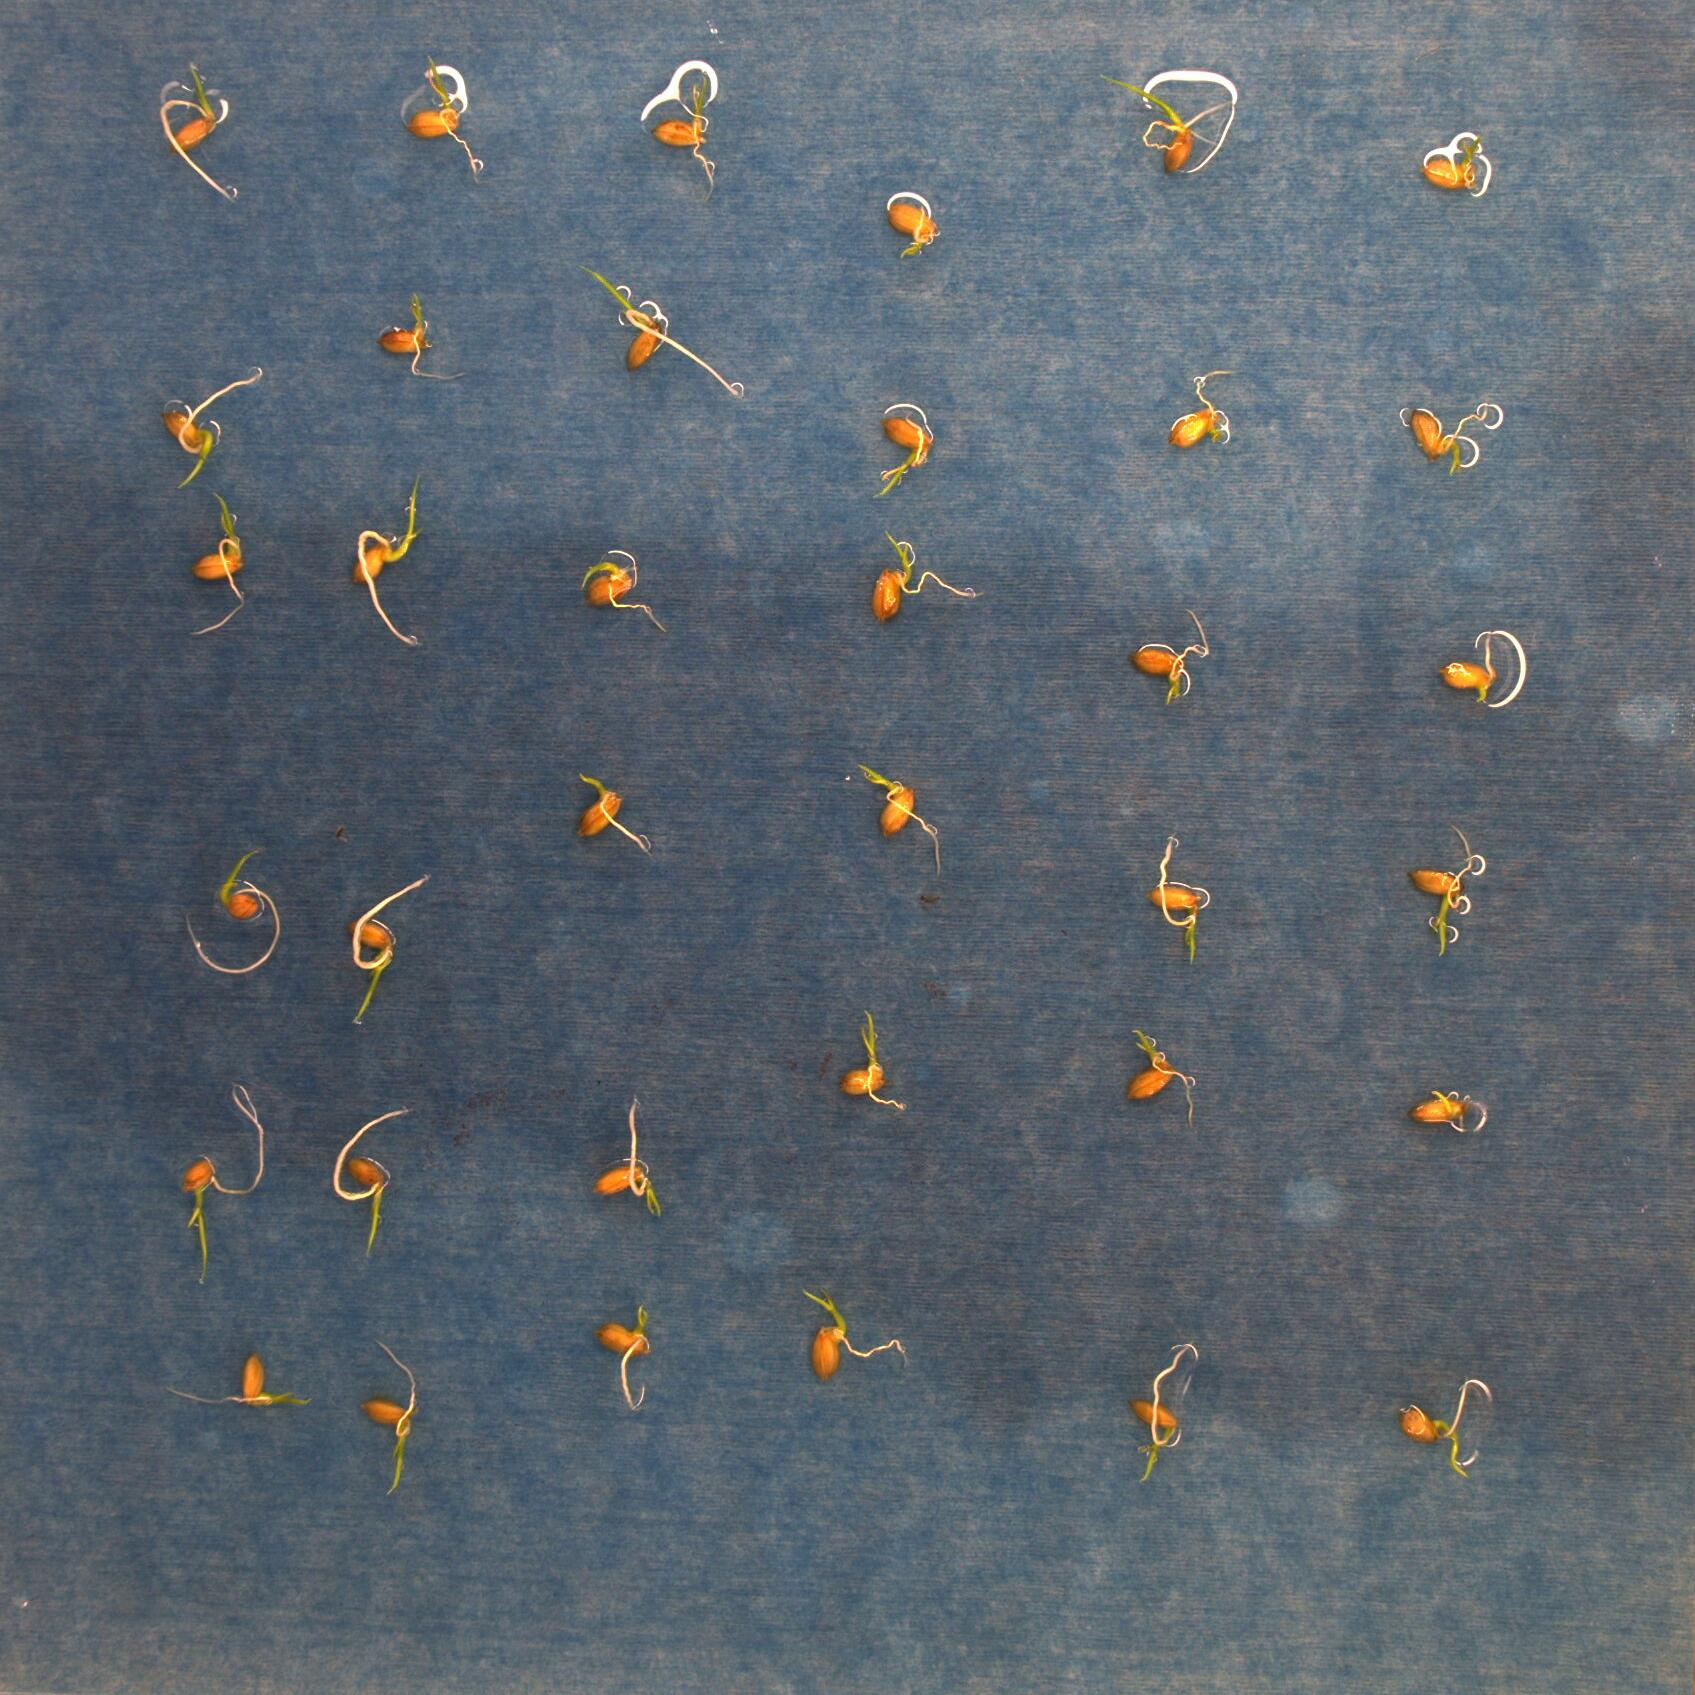not sprout: (396, 57, 487, 179), (1433, 632, 1503, 708), (1412, 1085, 1475, 1138)
sprout: (574, 261, 747, 400), (179, 1082, 270, 1288), (151, 61, 247, 214), (341, 868, 433, 1029), (349, 472, 428, 655), (1096, 68, 1231, 175), (160, 362, 265, 492), (331, 1101, 413, 1260), (180, 844, 279, 975), (789, 1287, 914, 1381), (868, 529, 979, 629), (359, 1332, 422, 1499), (188, 481, 251, 640), (590, 1093, 667, 1222), (1392, 1372, 1482, 1481), (1127, 1341, 1192, 1487), (1411, 821, 1479, 959), (860, 764, 939, 877), (1128, 607, 1215, 705), (1122, 1021, 1201, 1127), (168, 1357, 317, 1412), (1142, 830, 1205, 964), (577, 543, 667, 635), (374, 292, 467, 380), (657, 76, 723, 196), (571, 768, 655, 860), (588, 1305, 658, 1414), (837, 1010, 910, 1113), (1166, 366, 1239, 452), (1408, 400, 1492, 473), (868, 413, 938, 500), (1420, 135, 1485, 192), (886, 197, 941, 264)
